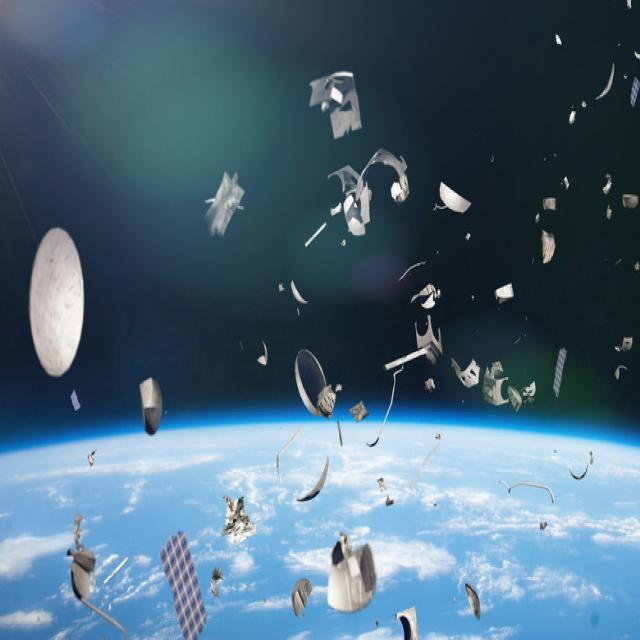large_debris: (17, 213, 101, 391), (311, 144, 423, 260), (366, 319, 448, 457), (67, 506, 143, 640), (453, 348, 547, 436), (502, 445, 598, 524), (551, 32, 621, 138), (194, 153, 254, 259), (324, 521, 385, 622), (304, 44, 364, 140), (158, 523, 206, 640), (269, 434, 341, 500), (407, 426, 457, 513), (131, 356, 171, 464), (289, 346, 341, 422), (435, 161, 481, 235), (531, 193, 567, 280), (602, 165, 640, 237), (611, 311, 639, 398), (400, 275, 454, 319), (224, 487, 256, 557), (271, 271, 312, 313), (462, 561, 485, 635), (390, 600, 426, 640), (495, 268, 521, 322), (550, 348, 572, 410), (627, 34, 640, 123), (290, 577, 314, 621), (373, 473, 399, 511), (63, 392, 91, 419), (257, 331, 271, 377), (79, 446, 107, 464), (212, 567, 224, 603)
